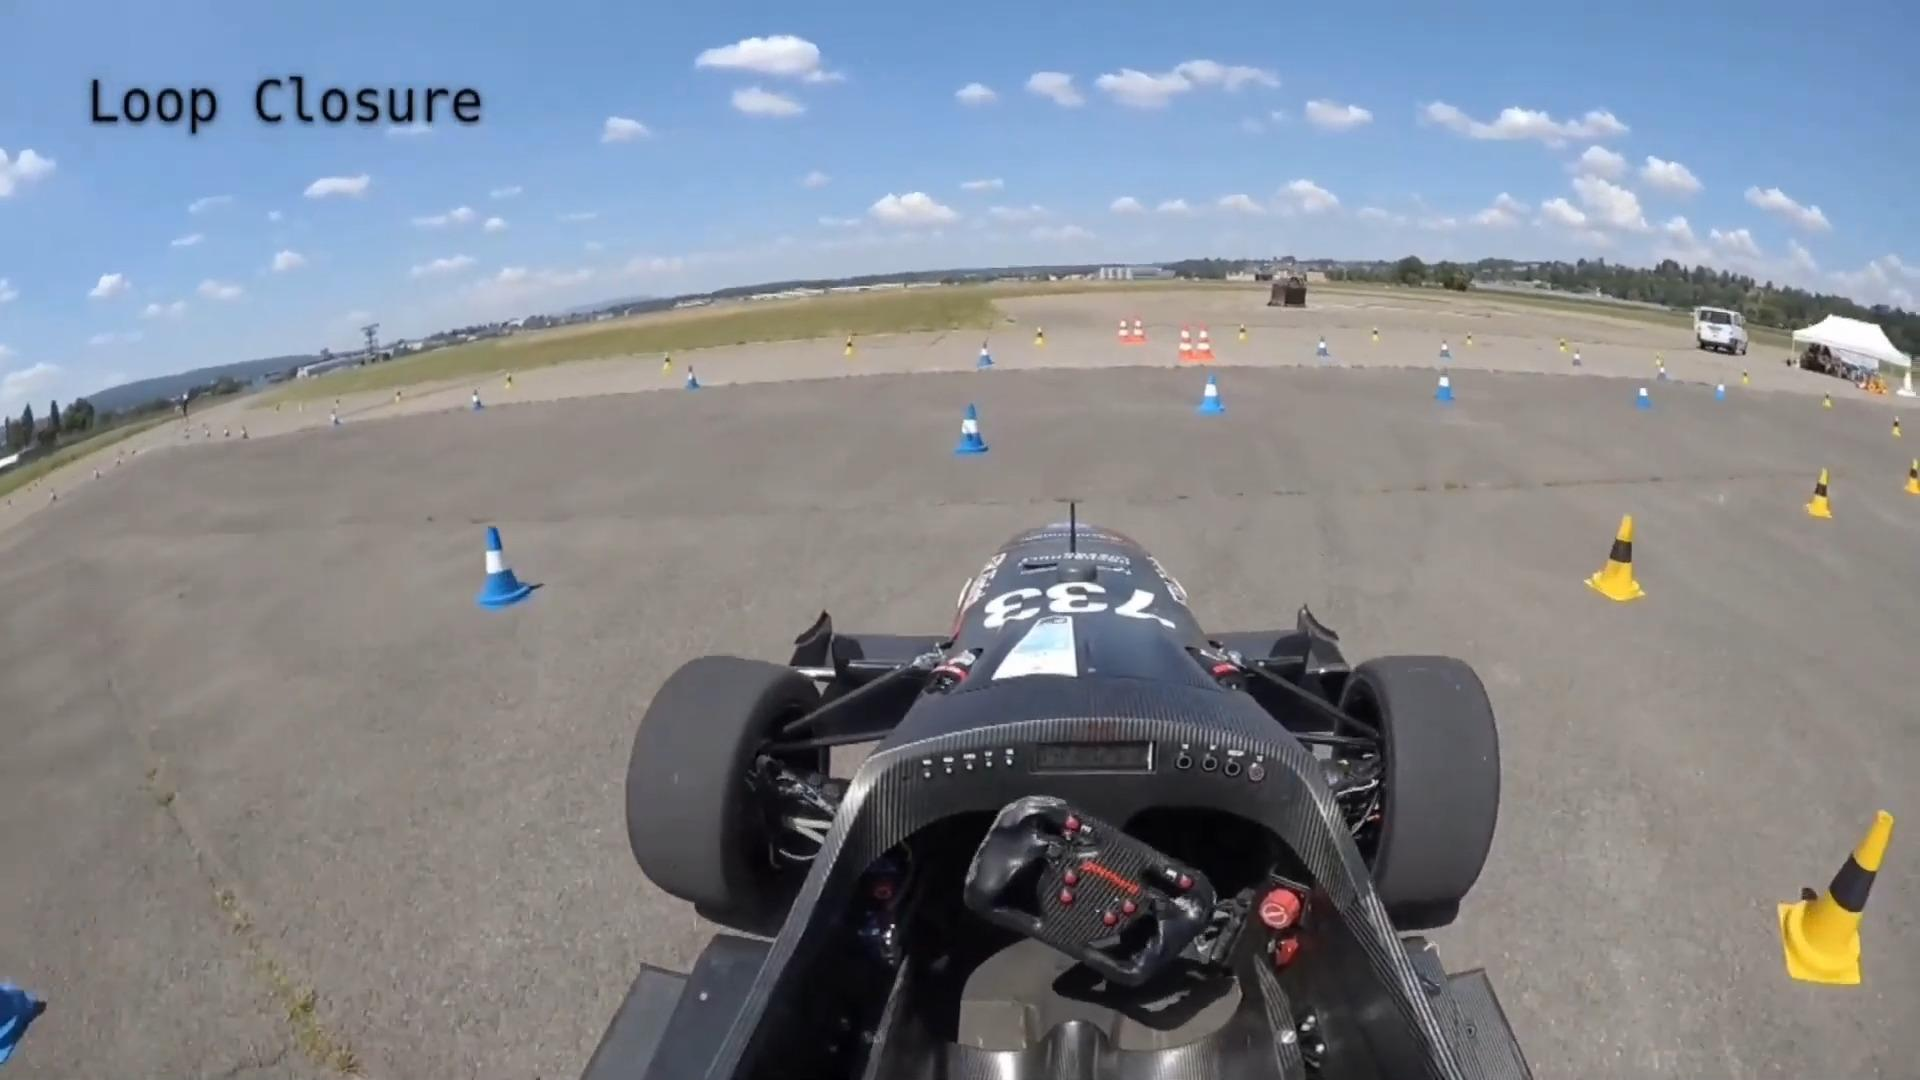blue_cone: (469, 522, 539, 608), (949, 404, 992, 455), (1193, 369, 1224, 418), (1428, 368, 1455, 406), (1308, 334, 1333, 359), (464, 386, 487, 414), (1433, 335, 1456, 361), (679, 364, 700, 392), (976, 345, 996, 372), (1634, 385, 1651, 415), (1713, 373, 1727, 405), (1571, 344, 1585, 372), (1656, 364, 1668, 384)
large_orange_cone: (1170, 323, 1196, 363), (1196, 324, 1217, 365), (1131, 314, 1153, 344), (1112, 313, 1130, 345)
yellow_cone: (1770, 775, 1894, 994), (1582, 510, 1654, 612), (1801, 465, 1836, 521), (1895, 452, 1920, 500), (1884, 411, 1904, 442), (1027, 322, 1047, 352), (1818, 386, 1837, 411), (1738, 361, 1754, 389), (659, 352, 675, 380), (501, 369, 517, 394), (839, 335, 855, 357), (1238, 323, 1251, 347), (1556, 334, 1568, 359), (1464, 328, 1476, 352), (1370, 323, 1382, 345), (1654, 348, 1665, 368)
